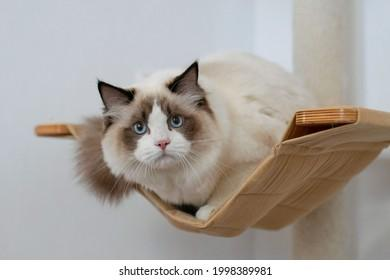ragdoll: (92, 57, 219, 182)
